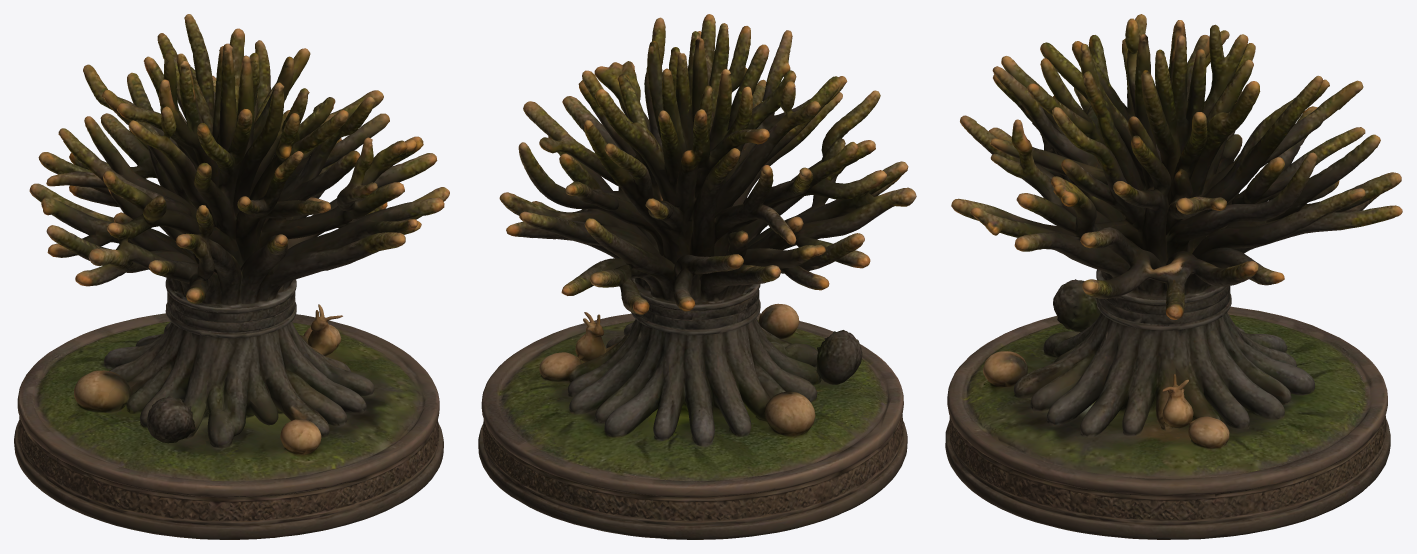
The model's file is tale_tree.glb.
3 views of the same model, side by side, from view 1: azimuth 30°, elevation 25°; view 2: azimuth 150°, elevation 25°; view 3: azimuth 270°, elevation 25° (orthographic). The views are drawn at different scales.
Parts seen in each view (by area): view 1: node_0; view 2: node_0; view 3: node_0.
Boxes of the visible parts, x1,y1,x2,y2 form: node_0: [14, 14, 449, 539]; node_0: [478, 14, 916, 539]; node_0: [945, 14, 1402, 539].
Bounding box in the file's own units: 0.8198 × 0.8516 × 0.8487.
1 material, 1 textured.
